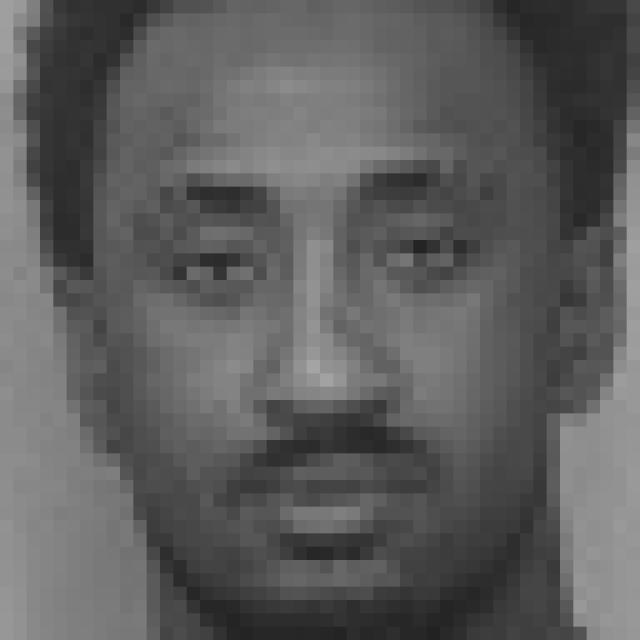neutral: (130, 156, 497, 566)
